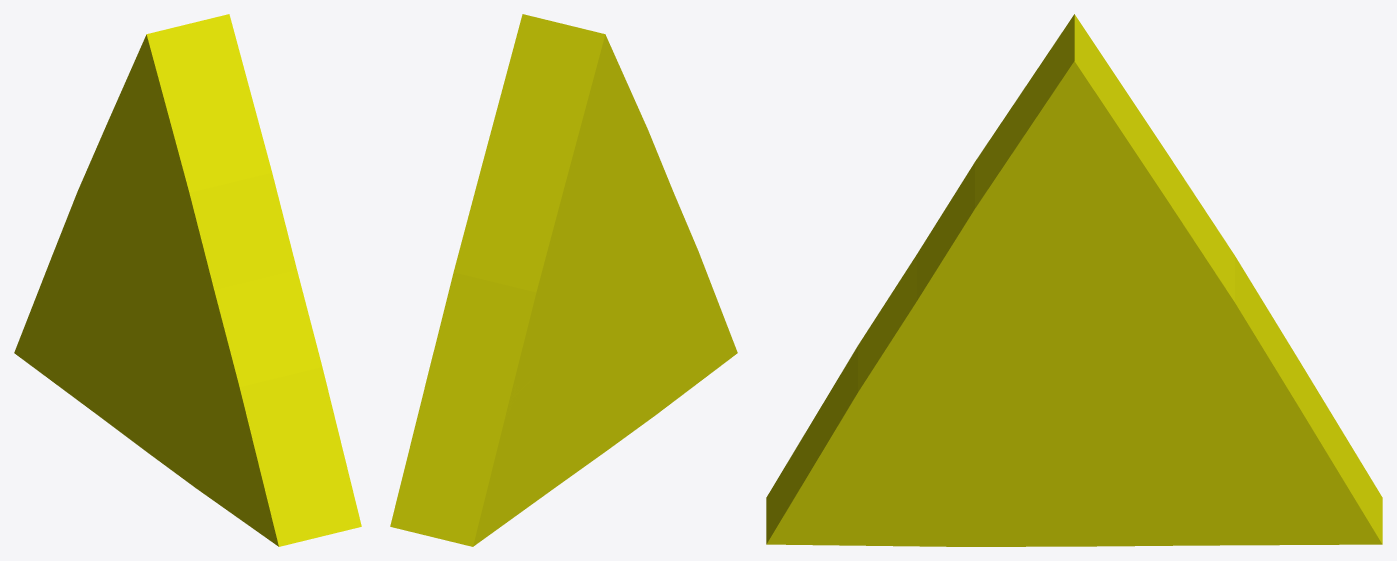
File: yellowtriangle.fbx
The picture shows the model from 3 angles, left to right: view 1: azimuth 30°, elevation 25°; view 2: azimuth 150°, elevation 25°; view 3: azimuth 270°, elevation 25°; orthographic projection. The views are drawn at different scales.
Visible parts, largest first — view 1: pCylinder4; view 2: pCylinder4; view 3: pCylinder4.
Part boxes in pixels (x1,y1,x2,y2): pCylinder4: (14, 14, 361, 546); pCylinder4: (390, 14, 737, 546); pCylinder4: (766, 14, 1382, 546).
Size of the model in its own units: 0.3502 by 1.69 by 1.94.
